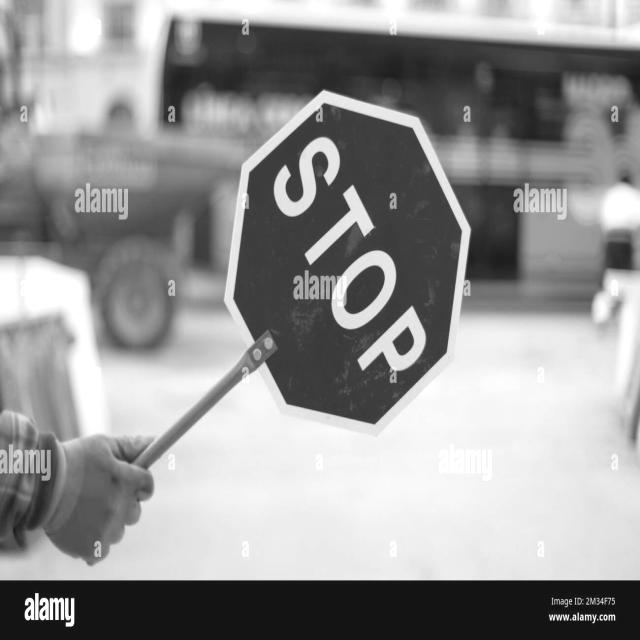Stop-sign: (216, 72, 492, 440)
